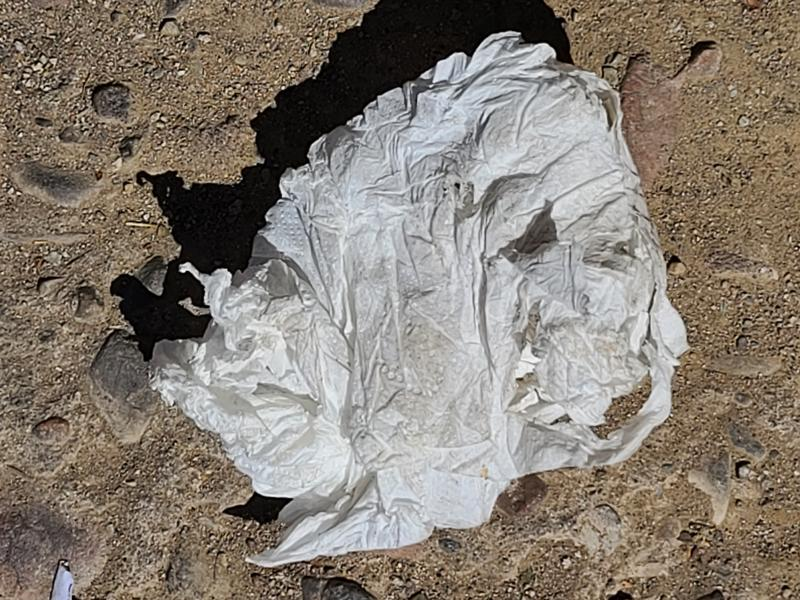papel: (147, 32, 691, 570)
